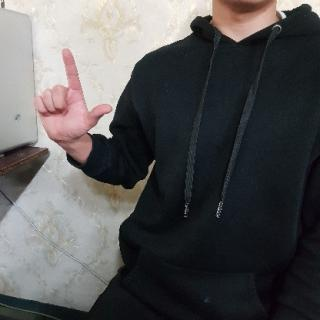LAAM: (33, 45, 112, 148)
